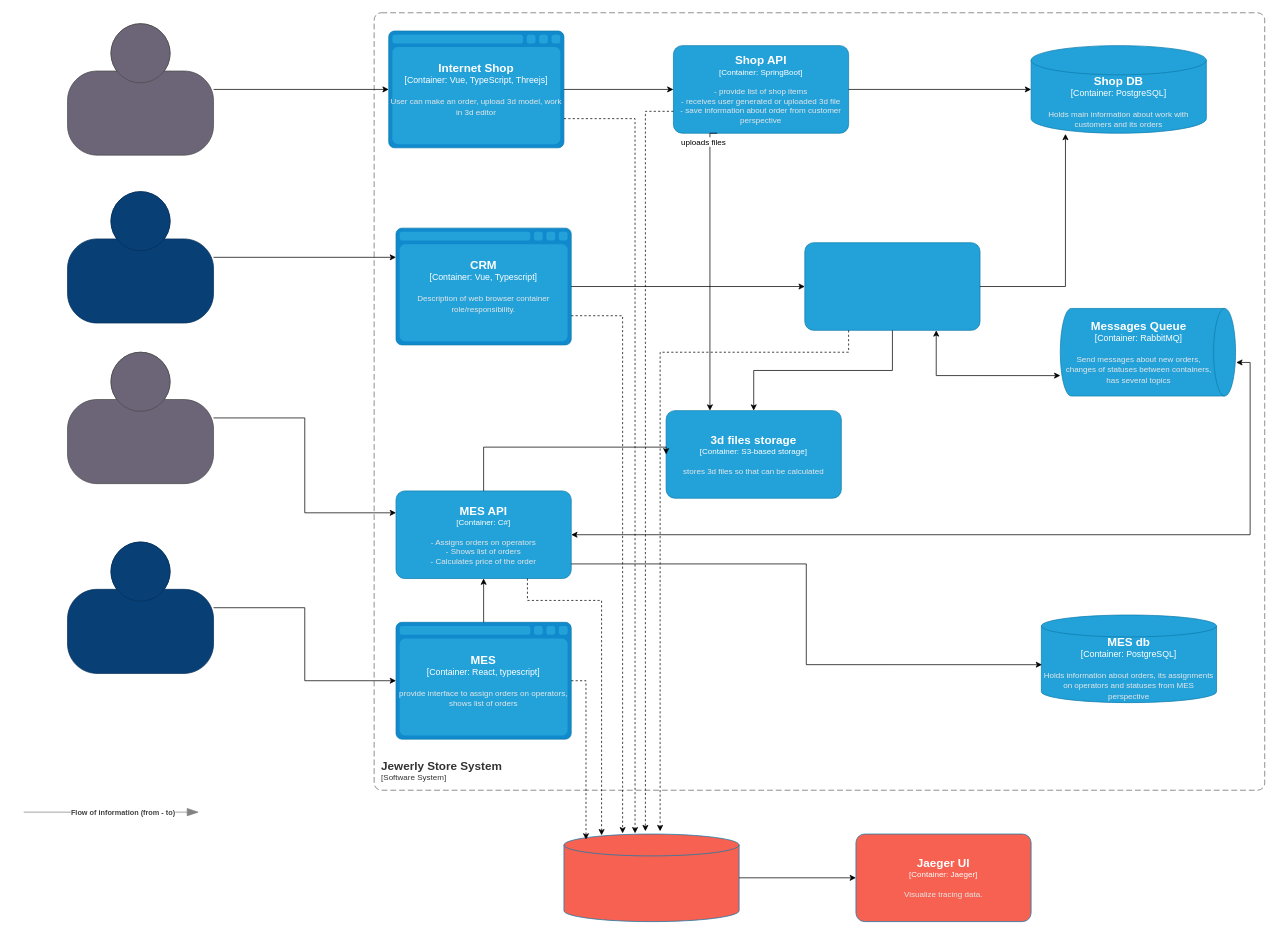
Some shapes in this 1278 by 934 pixel diagram are drawn without their labels. The shapes that lost their labels are listed below. From the top down, each one's box as (x1, y1, x2, y2) in pixels, then its label:
(67, 23, 214, 155): Customer [Person] Description of external person.
(67, 191, 214, 323): Seller [Person] Operates with order, confirms manufacturing for the user
(804, 242, 980, 330): CRM API [Container: SpringBoot] Description of container role/responsibility.
(67, 351, 214, 484): API user [Person] Description of external person.
(67, 541, 214, 673): Operator [Person] Takes order in work, manufactures jewerly
(563, 833, 739, 922): Jaeger [Container: Jaeger] Collect tracing data.
